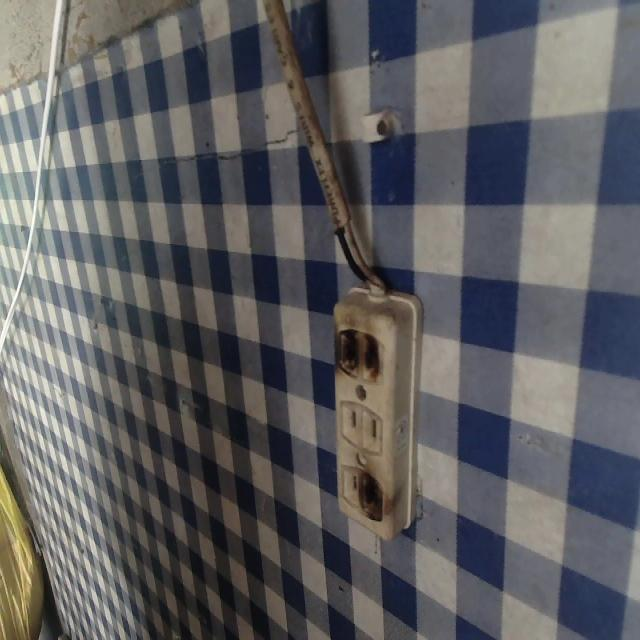-: (331, 326, 384, 386), (357, 468, 385, 525)
